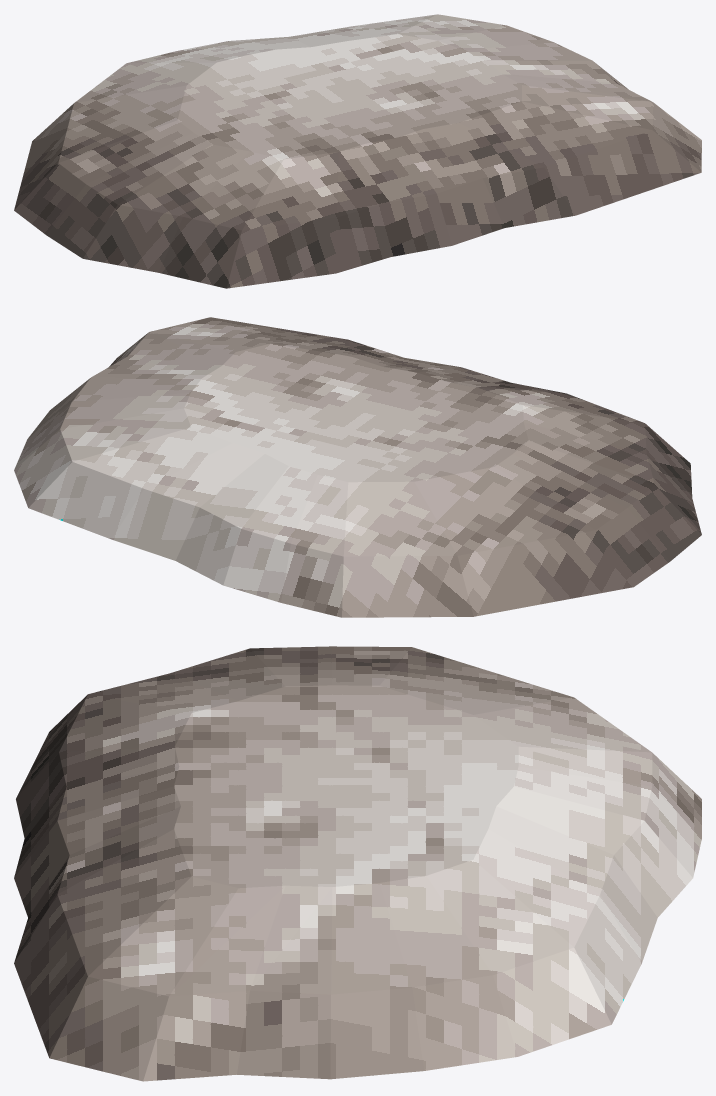
The model's file is rock_316x00.gltf.
3 renders of one model, top to bottom at view 1: azimuth 30°, elevation 25°; view 2: azimuth 150°, elevation 25°; view 3: azimuth 270°, elevation 25°, orthographic. The views are drawn at different scales.
Parts seen in each view (by area): view 1: Rock_316x0; view 2: Rock_316x0; view 3: Rock_316x0.
Boxes of the visible parts, x1,y1,x2,y2 form: Rock_316x0: [14, 14, 701, 288]; Rock_316x0: [14, 317, 701, 617]; Rock_316x0: [14, 646, 701, 1081].
Bounding box in the file's own units: 5.96 × 0.6374 × 4.28.
Materials: 1 (1 with a texture image).
